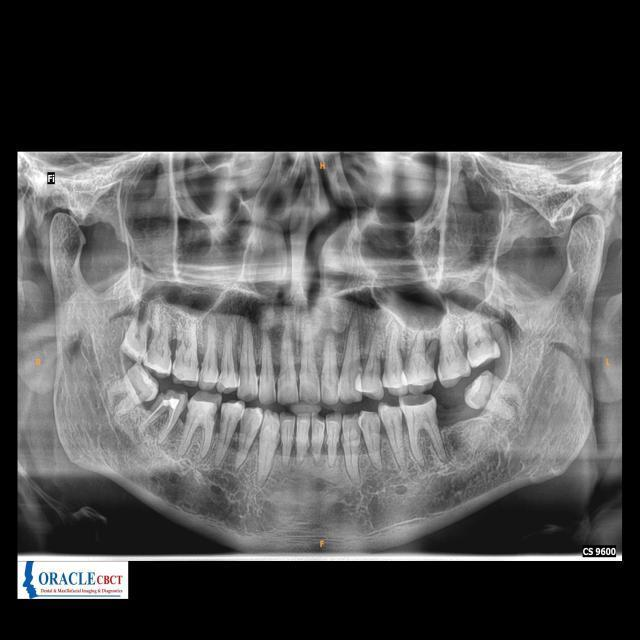dentin-curugu: (404, 394, 432, 408), (161, 388, 184, 400), (148, 326, 155, 348), (176, 338, 182, 352)
dolgu: (162, 398, 182, 409)
kanal-tedavisi: (138, 403, 166, 430), (162, 409, 178, 434)
